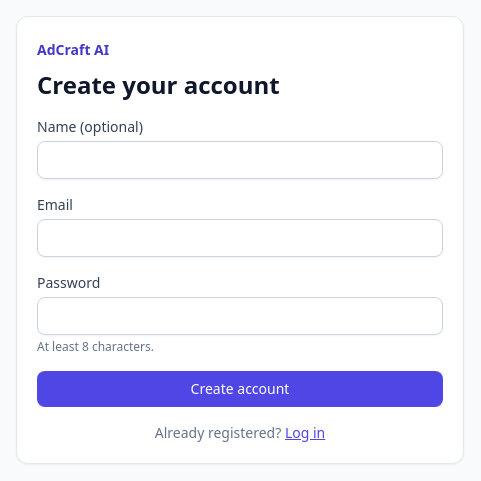
Scenario: auth form validation › register enforces minimum password length
Type "a@b.co" into the field labelled "Email" at (240, 238), box [37, 219, 443, 257]
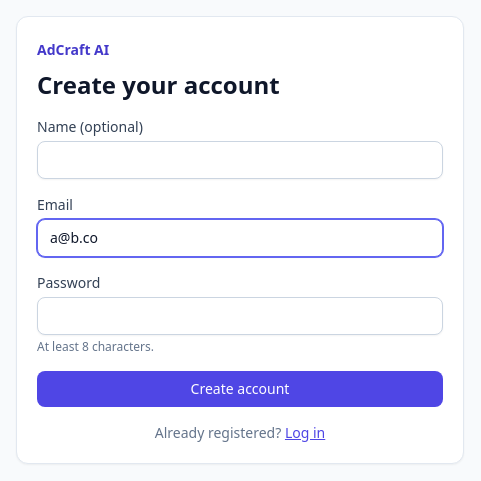
Type "short" into the password field labelled "Password" at (240, 316), box [37, 297, 443, 335]
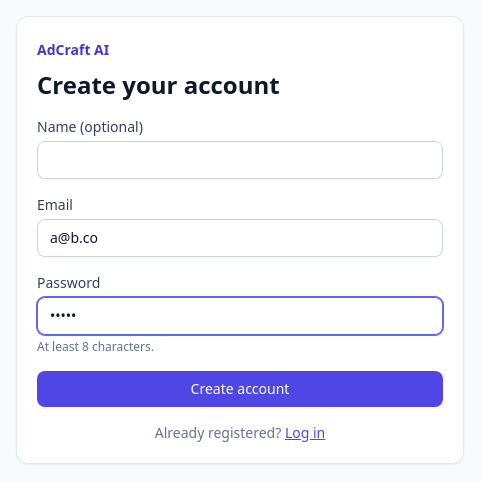
Click the button "Create account" at (240, 389), box [37, 371, 443, 407]
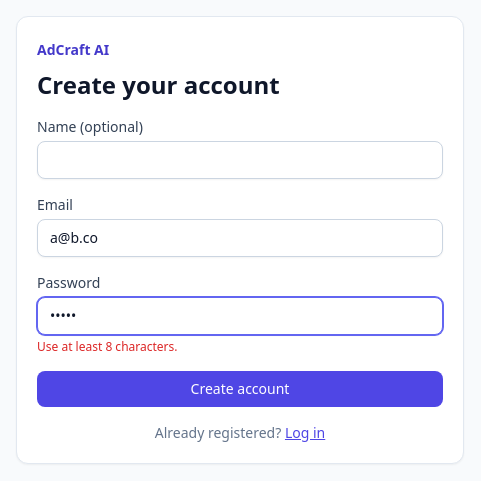
Now the text "Use at least 8 characters." is shown, box [37, 338, 178, 355]
